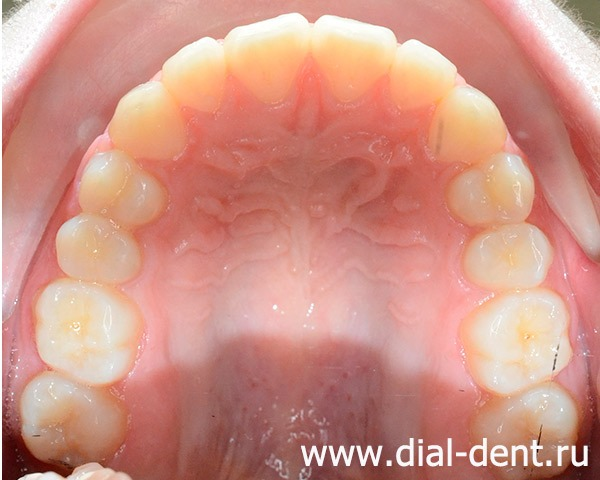UL1BC_healthy: (451, 154, 533, 224)
UL1M_healthy: (475, 292, 552, 394)
UL2BC_healthy: (465, 225, 550, 290)
UL2M_decay: (483, 391, 577, 440)
ULCI_healthy: (312, 19, 393, 97)
ULC_healthy: (444, 86, 505, 163)
ULLI_healthy: (395, 40, 453, 108)
UR1BC_healthy: (79, 152, 162, 224)
UR1M_healthy: (38, 281, 130, 383)
UR2BC_healthy: (56, 215, 138, 283)
UR2M_healthy: (24, 372, 121, 458)
URCI_healthy: (224, 14, 310, 105)
URC_healthy: (111, 83, 183, 158)
URLI_healthy: (162, 37, 224, 111)
